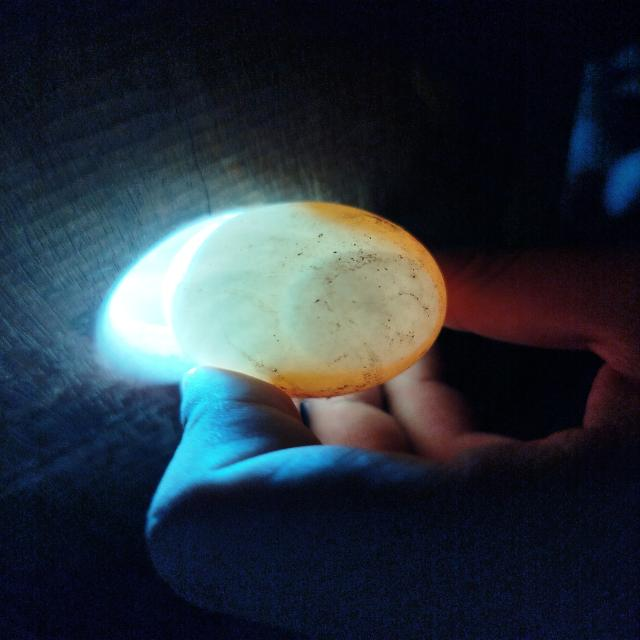Camara de Ar: (282, 251, 441, 372)
Gema Quebrada: (275, 203, 449, 399)
